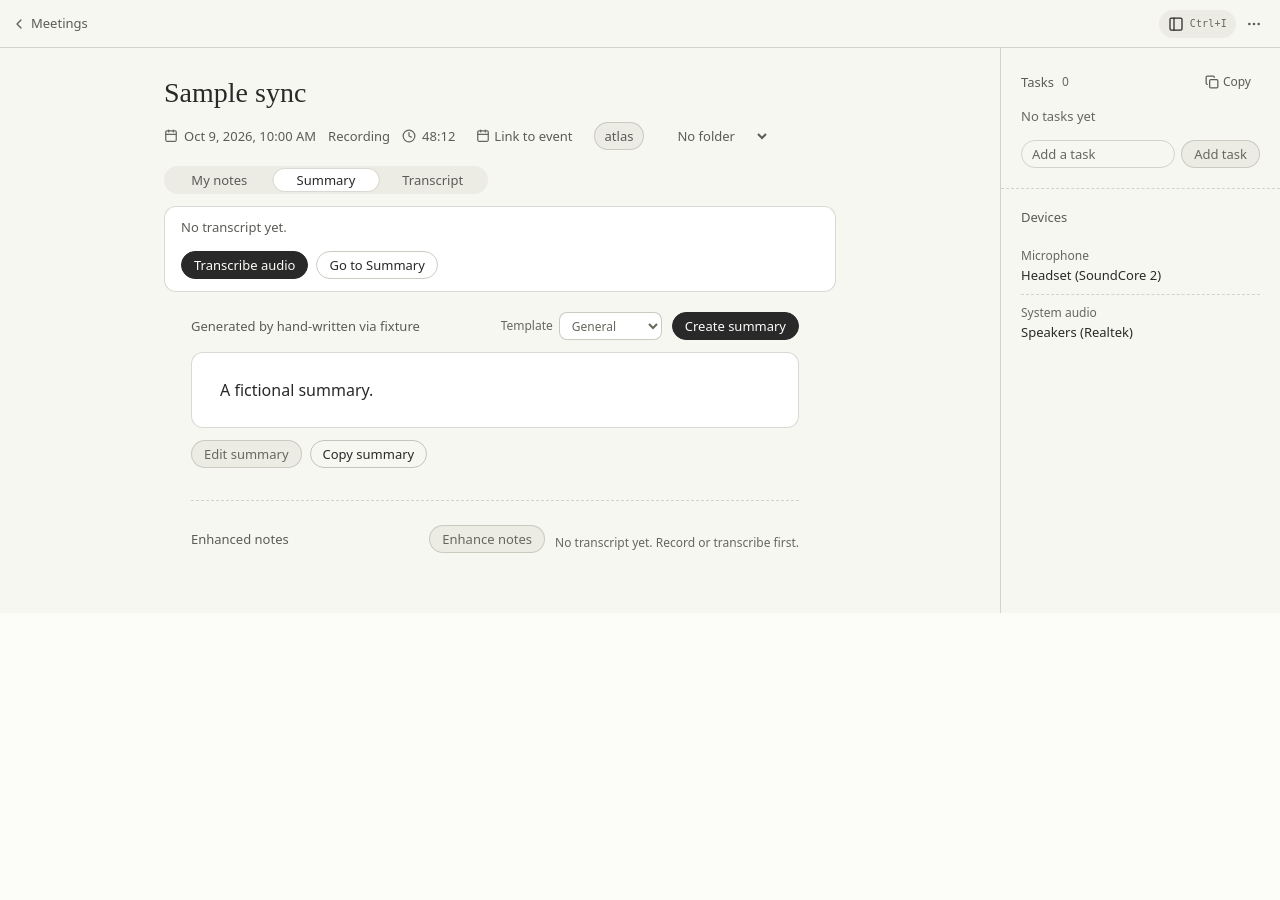
Test: traps Tab in the History sheet and returns focus to the menu on Escape
Click the heading named "More meeting actions" at (1254, 24), box [1246, 16, 1262, 32]
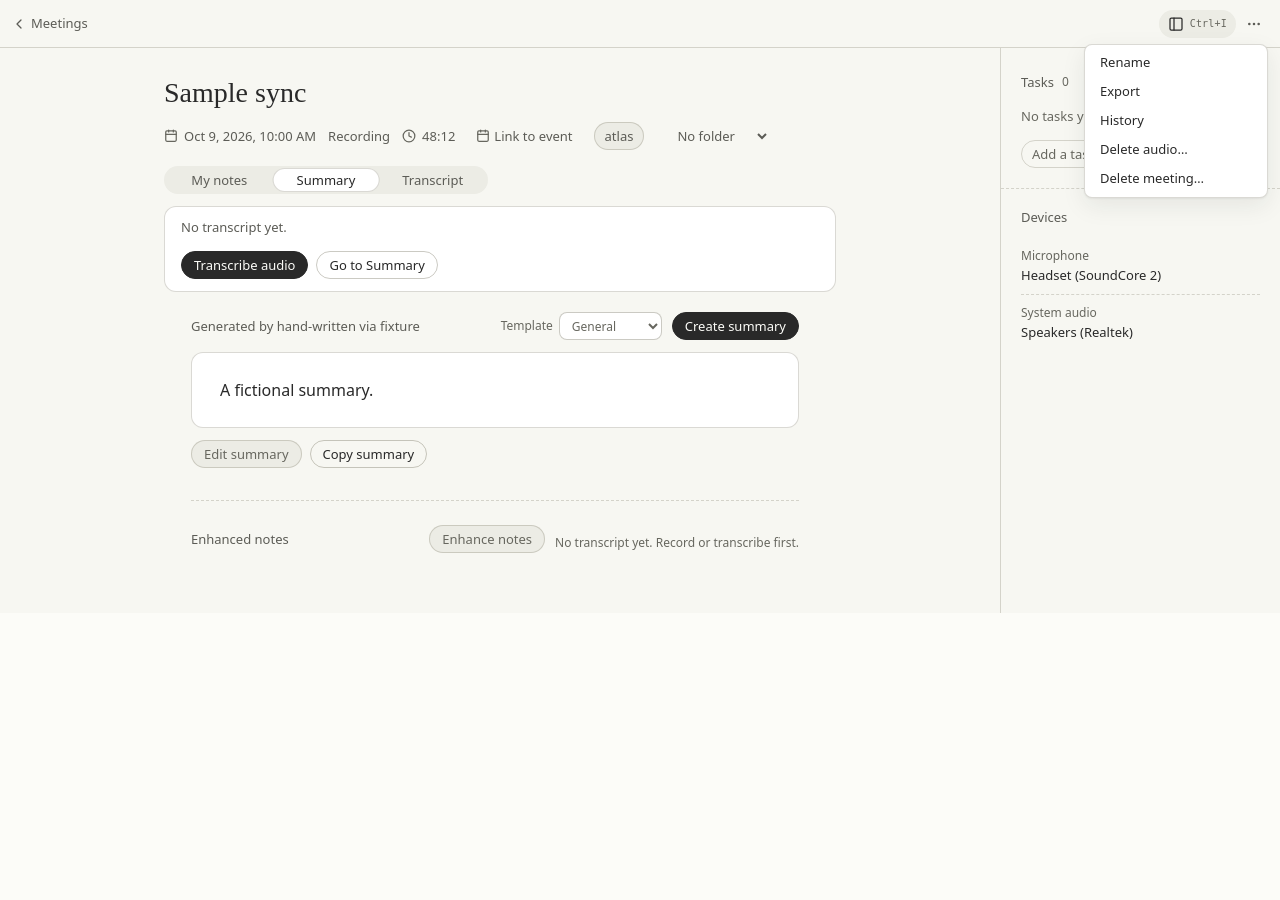
Click the button "History" at (1176, 120), box [1089, 106, 1263, 134]
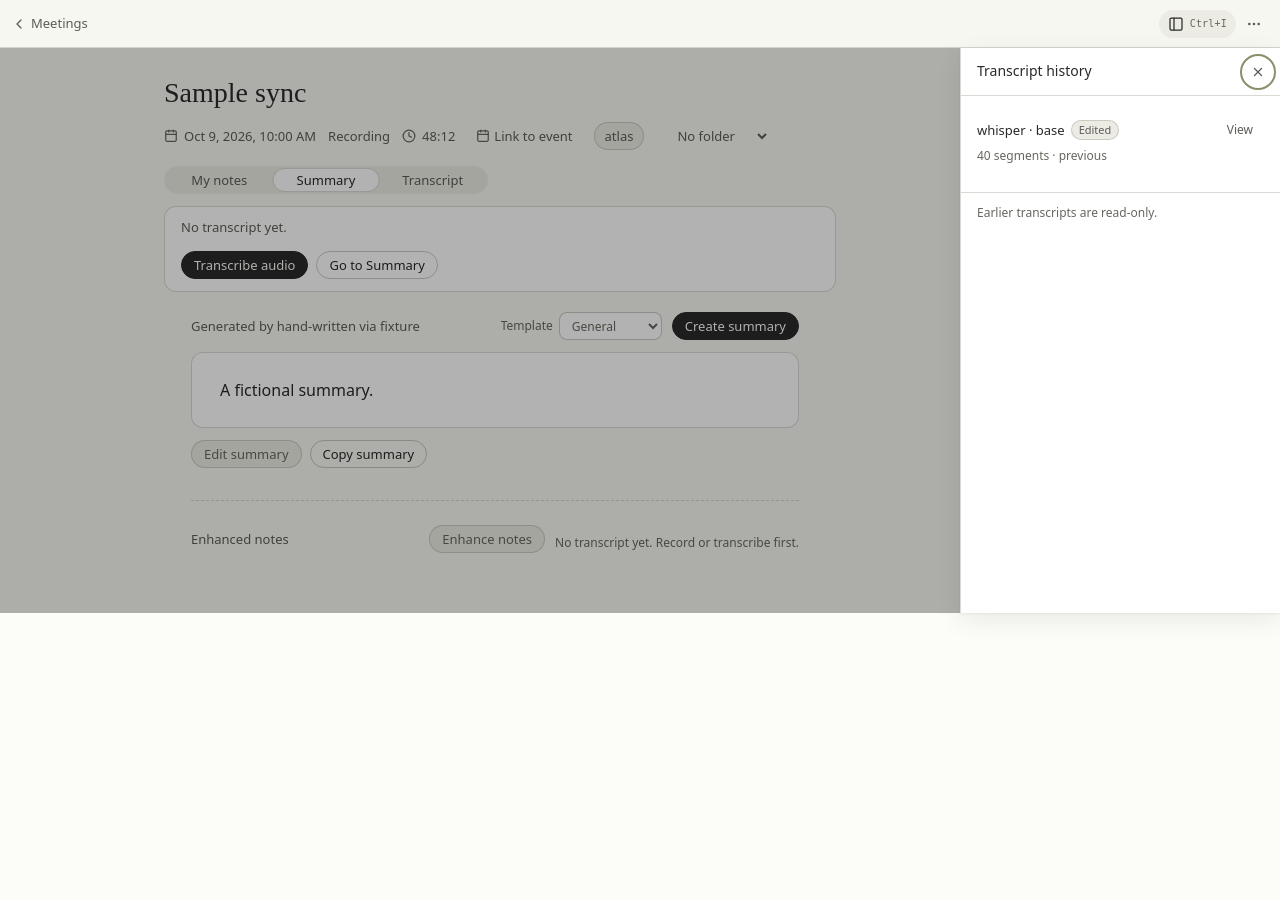
Press Tab
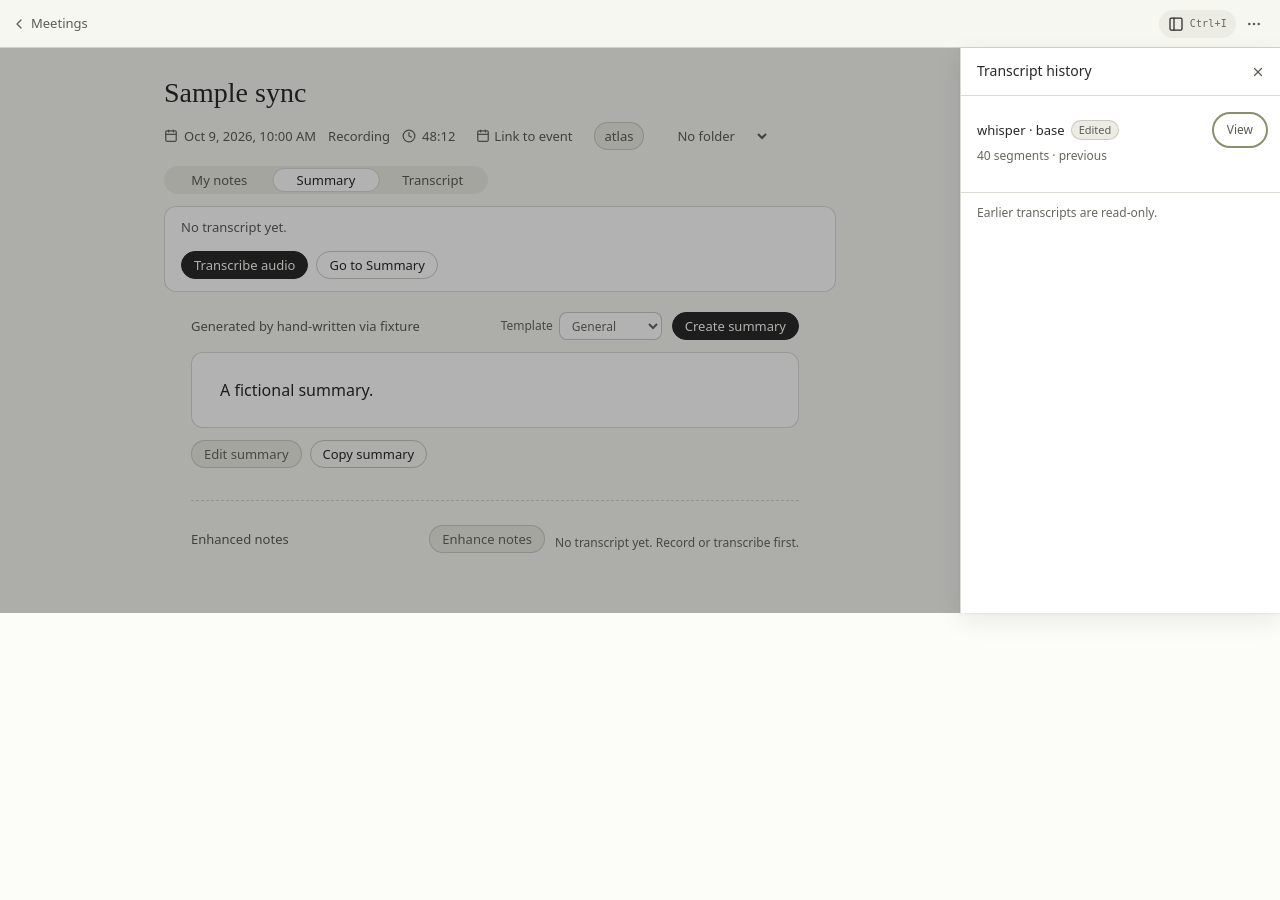
Press Tab
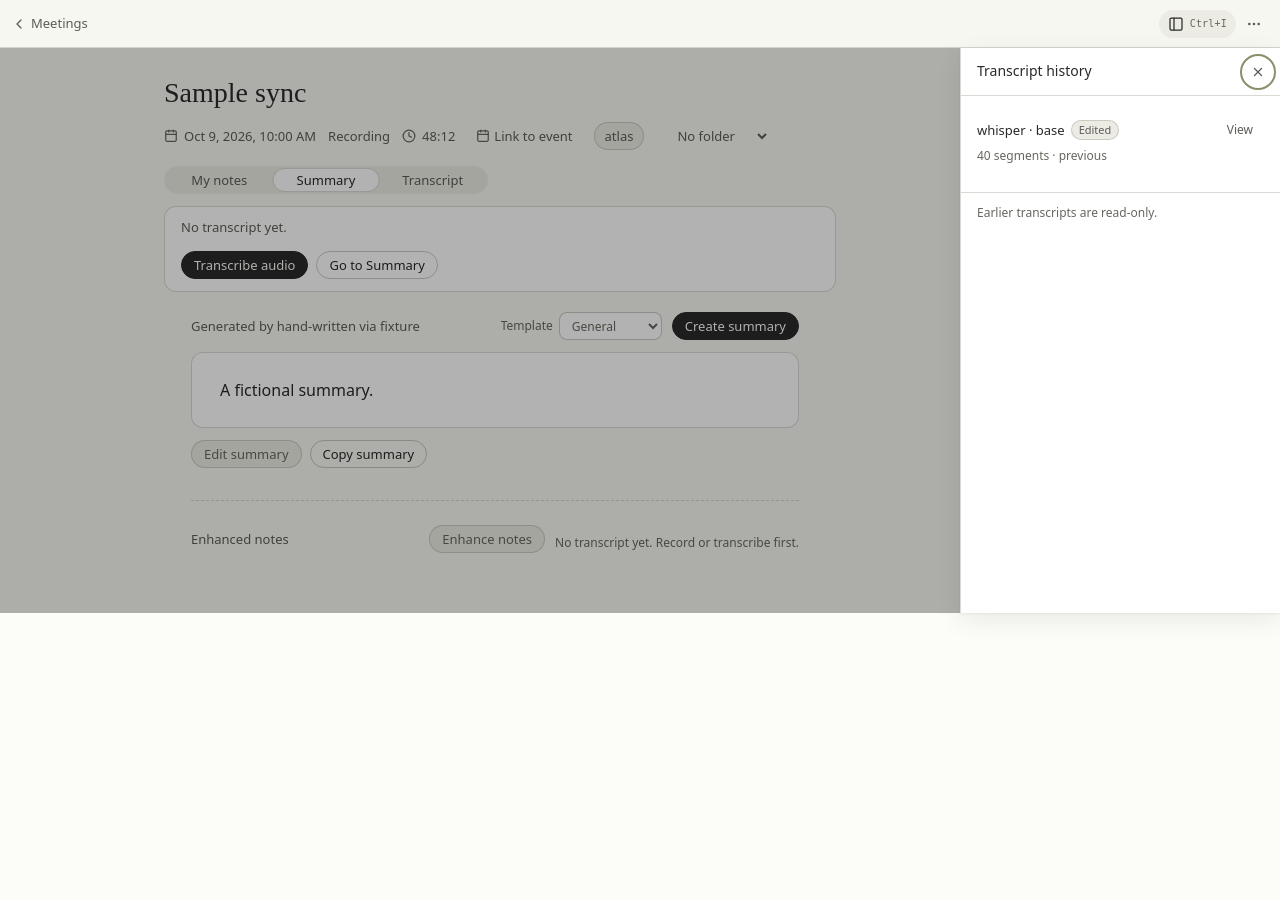
Press Escape
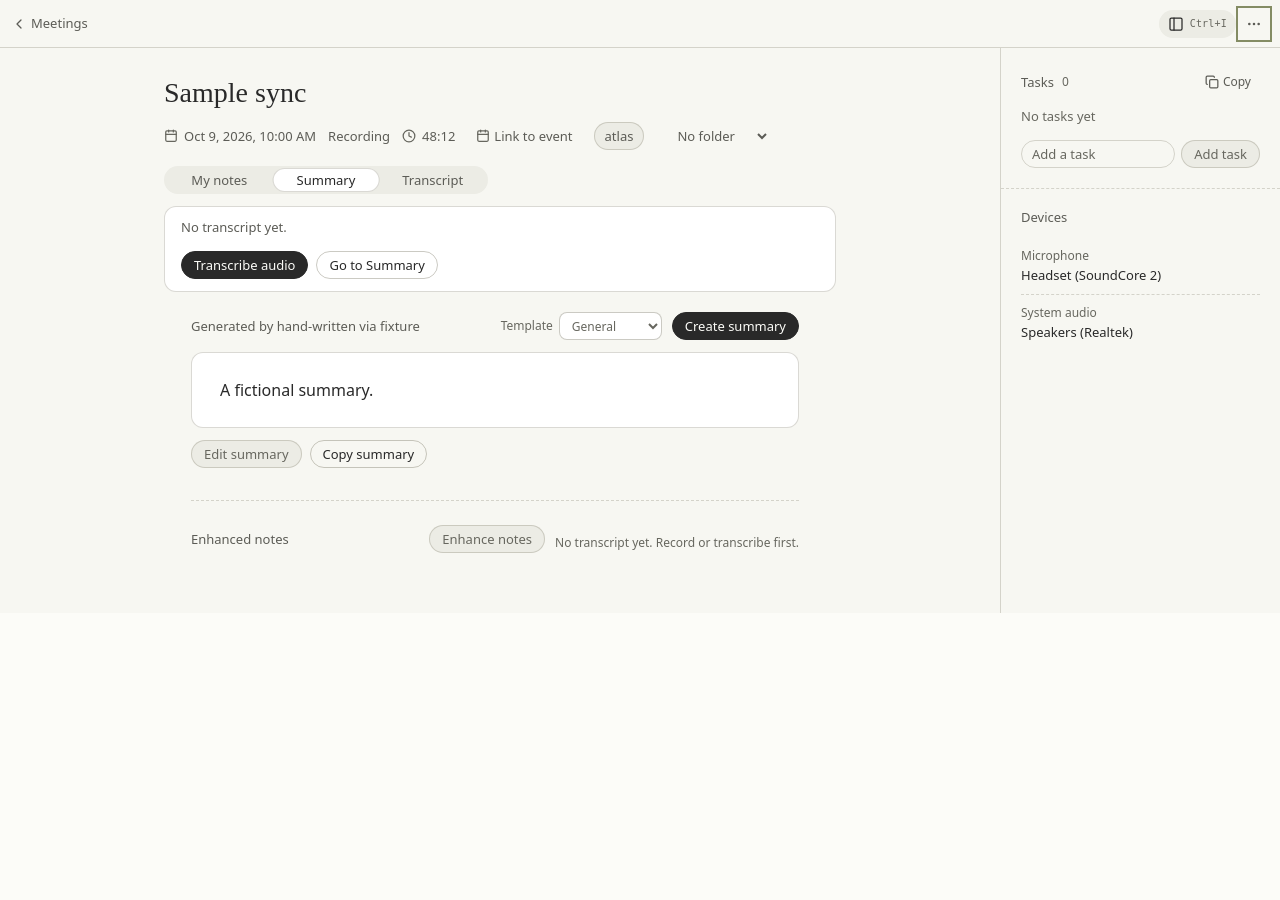
Expected: the dialog is gone
